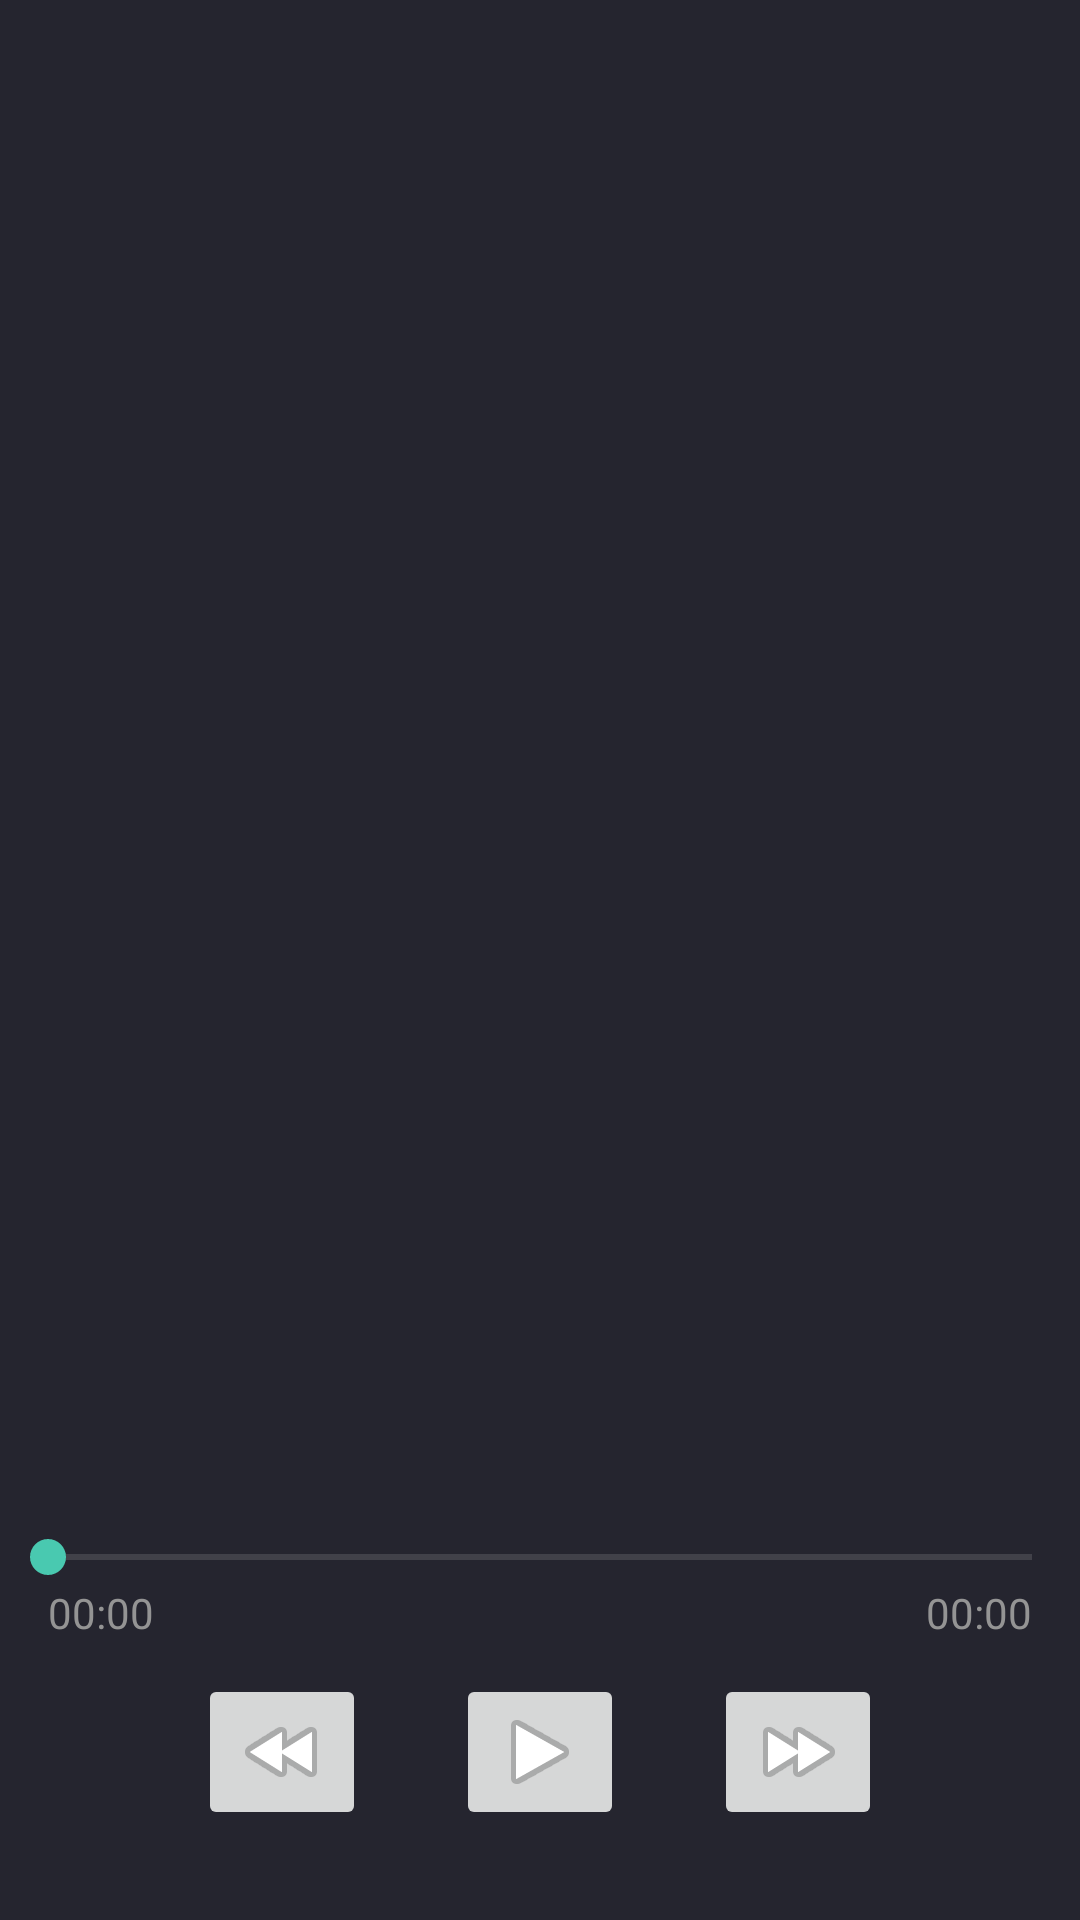

Named icons in this screenshot (1080w x 1920h) and their bounding boxes, (x1, y1, x2, y2):
play: (468, 1692, 612, 1812)
rew: (210, 1692, 354, 1812)
